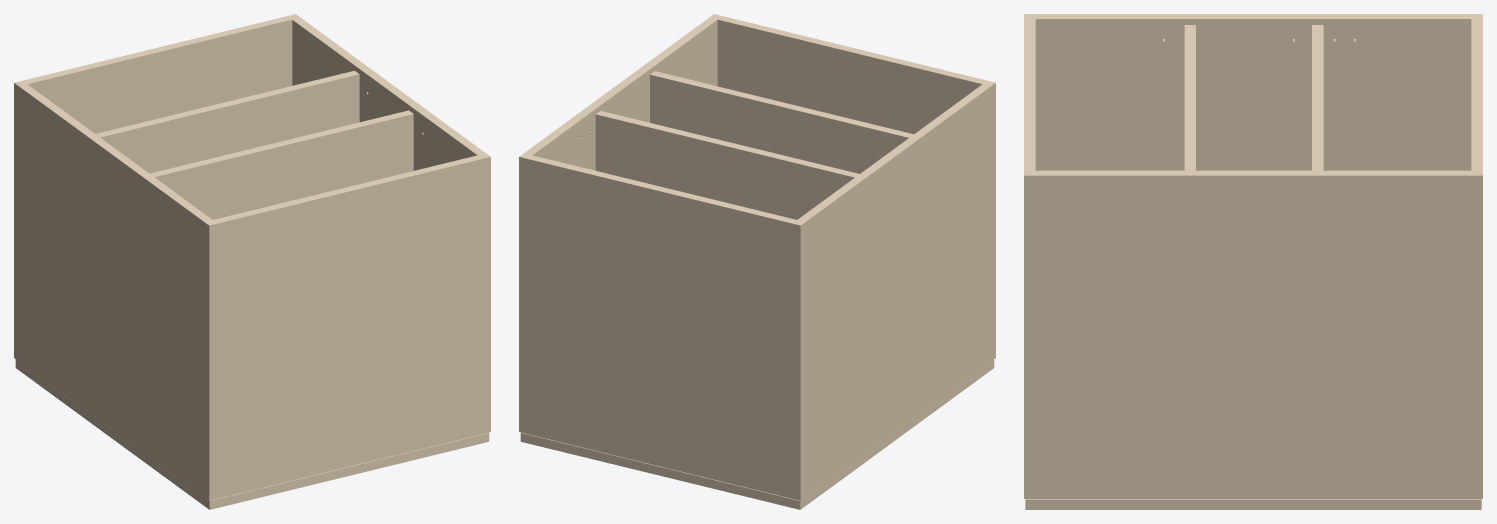
File: primjer.glb
The picture shows the model from 3 angles, left to right: view 1: azimuth 30°, elevation 25°; view 2: azimuth 150°, elevation 25°; view 3: azimuth 270°, elevation 25°; orthographic projection. The views are drawn at different scales.
Parts seen in each view (by area): view 1: Krov, Bok lijevi, Dno, Polica (2), Polica, Bok desni, Vrata lijeva; view 2: Dno, Bok lijevi, Krov, Polica, Polica (2), Bok desni, Vrata lijeva; view 3: Bok desni, Bok lijevi, Vrata lijeva, Dno, Krov, Polica, Polica (2).
Boxes of the visible parts, box(x1,y1,x2,y2) form: Krov: box(213, 155, 482, 498); Bok lijevi: box(14, 80, 217, 500); Dno: box(23, 16, 292, 133); Polica (2): box(150, 110, 413, 219); Polica: box(96, 70, 359, 173); Bok desni: box(287, 14, 490, 433); Vrata lijeva: box(15, 359, 489, 509); Dno: box(527, 155, 796, 498); Bok lijevi: box(792, 80, 995, 500); Krov: box(717, 16, 986, 134); Polica: box(595, 111, 859, 219); Polica (2): box(650, 71, 913, 173); Bok desni: box(519, 14, 722, 433); Vrata lijeva: box(520, 359, 994, 509); Bok desni: box(1024, 170, 1482, 498); Bok lijevi: box(1024, 14, 1482, 170); Vrata lijeva: box(1025, 499, 1481, 509); Dno: box(1471, 19, 1482, 170); Krov: box(1024, 19, 1035, 170); Polica: box(1312, 25, 1323, 170); Polica (2): box(1184, 25, 1195, 170).
Size of the model in its own units: 600 by 580 by 720.
